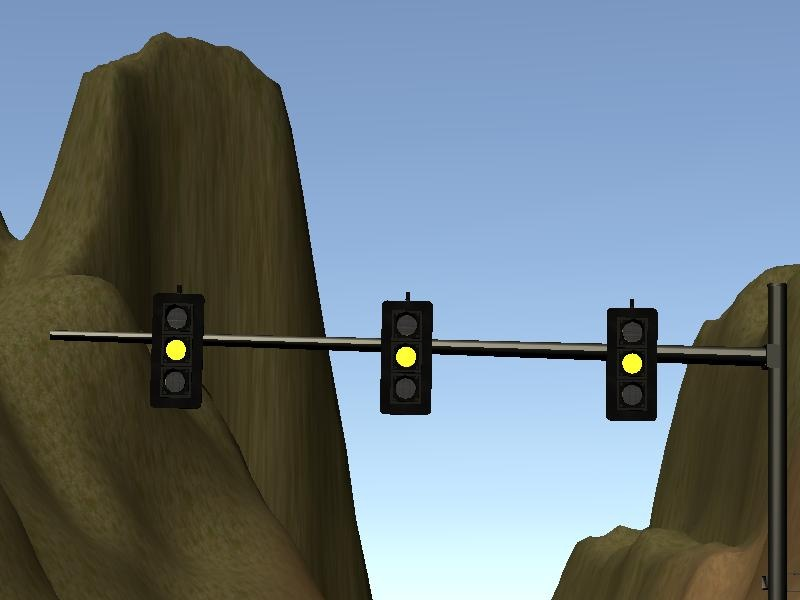yellow: (604, 307, 658, 419), (150, 292, 200, 409), (383, 299, 429, 413)
